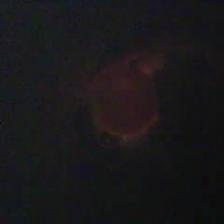fertile: (85, 57, 164, 142)
